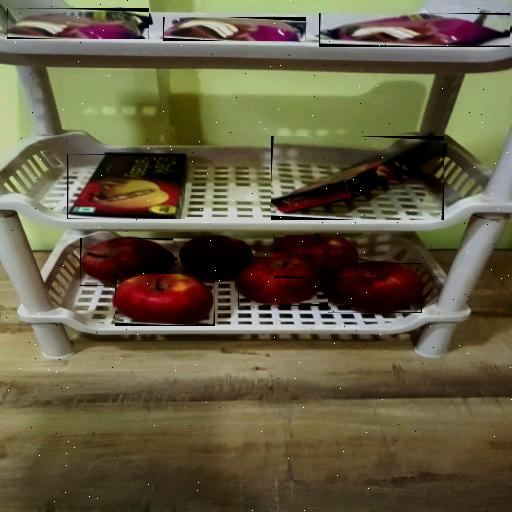Apple: (115, 274, 215, 326), (328, 263, 422, 313), (238, 258, 328, 308), (80, 238, 173, 286), (274, 236, 358, 280), (181, 237, 255, 281)
Choco Fills: (271, 136, 444, 220), (67, 154, 185, 219)
Choco Pie: (319, 13, 510, 47), (7, 8, 149, 39), (163, 17, 306, 41)
